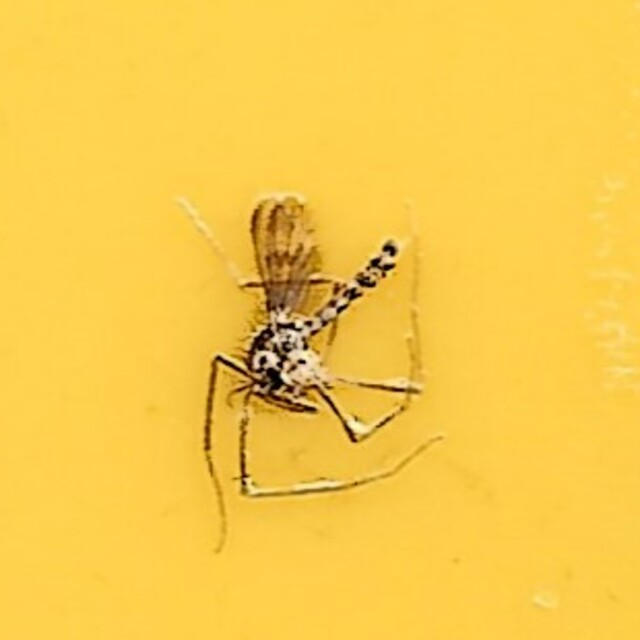Nematocera: (206, 187, 434, 453)
